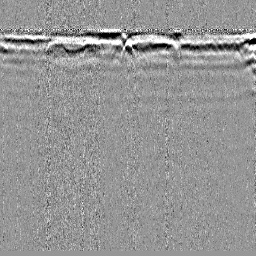cavity: (120, 37, 136, 57)
